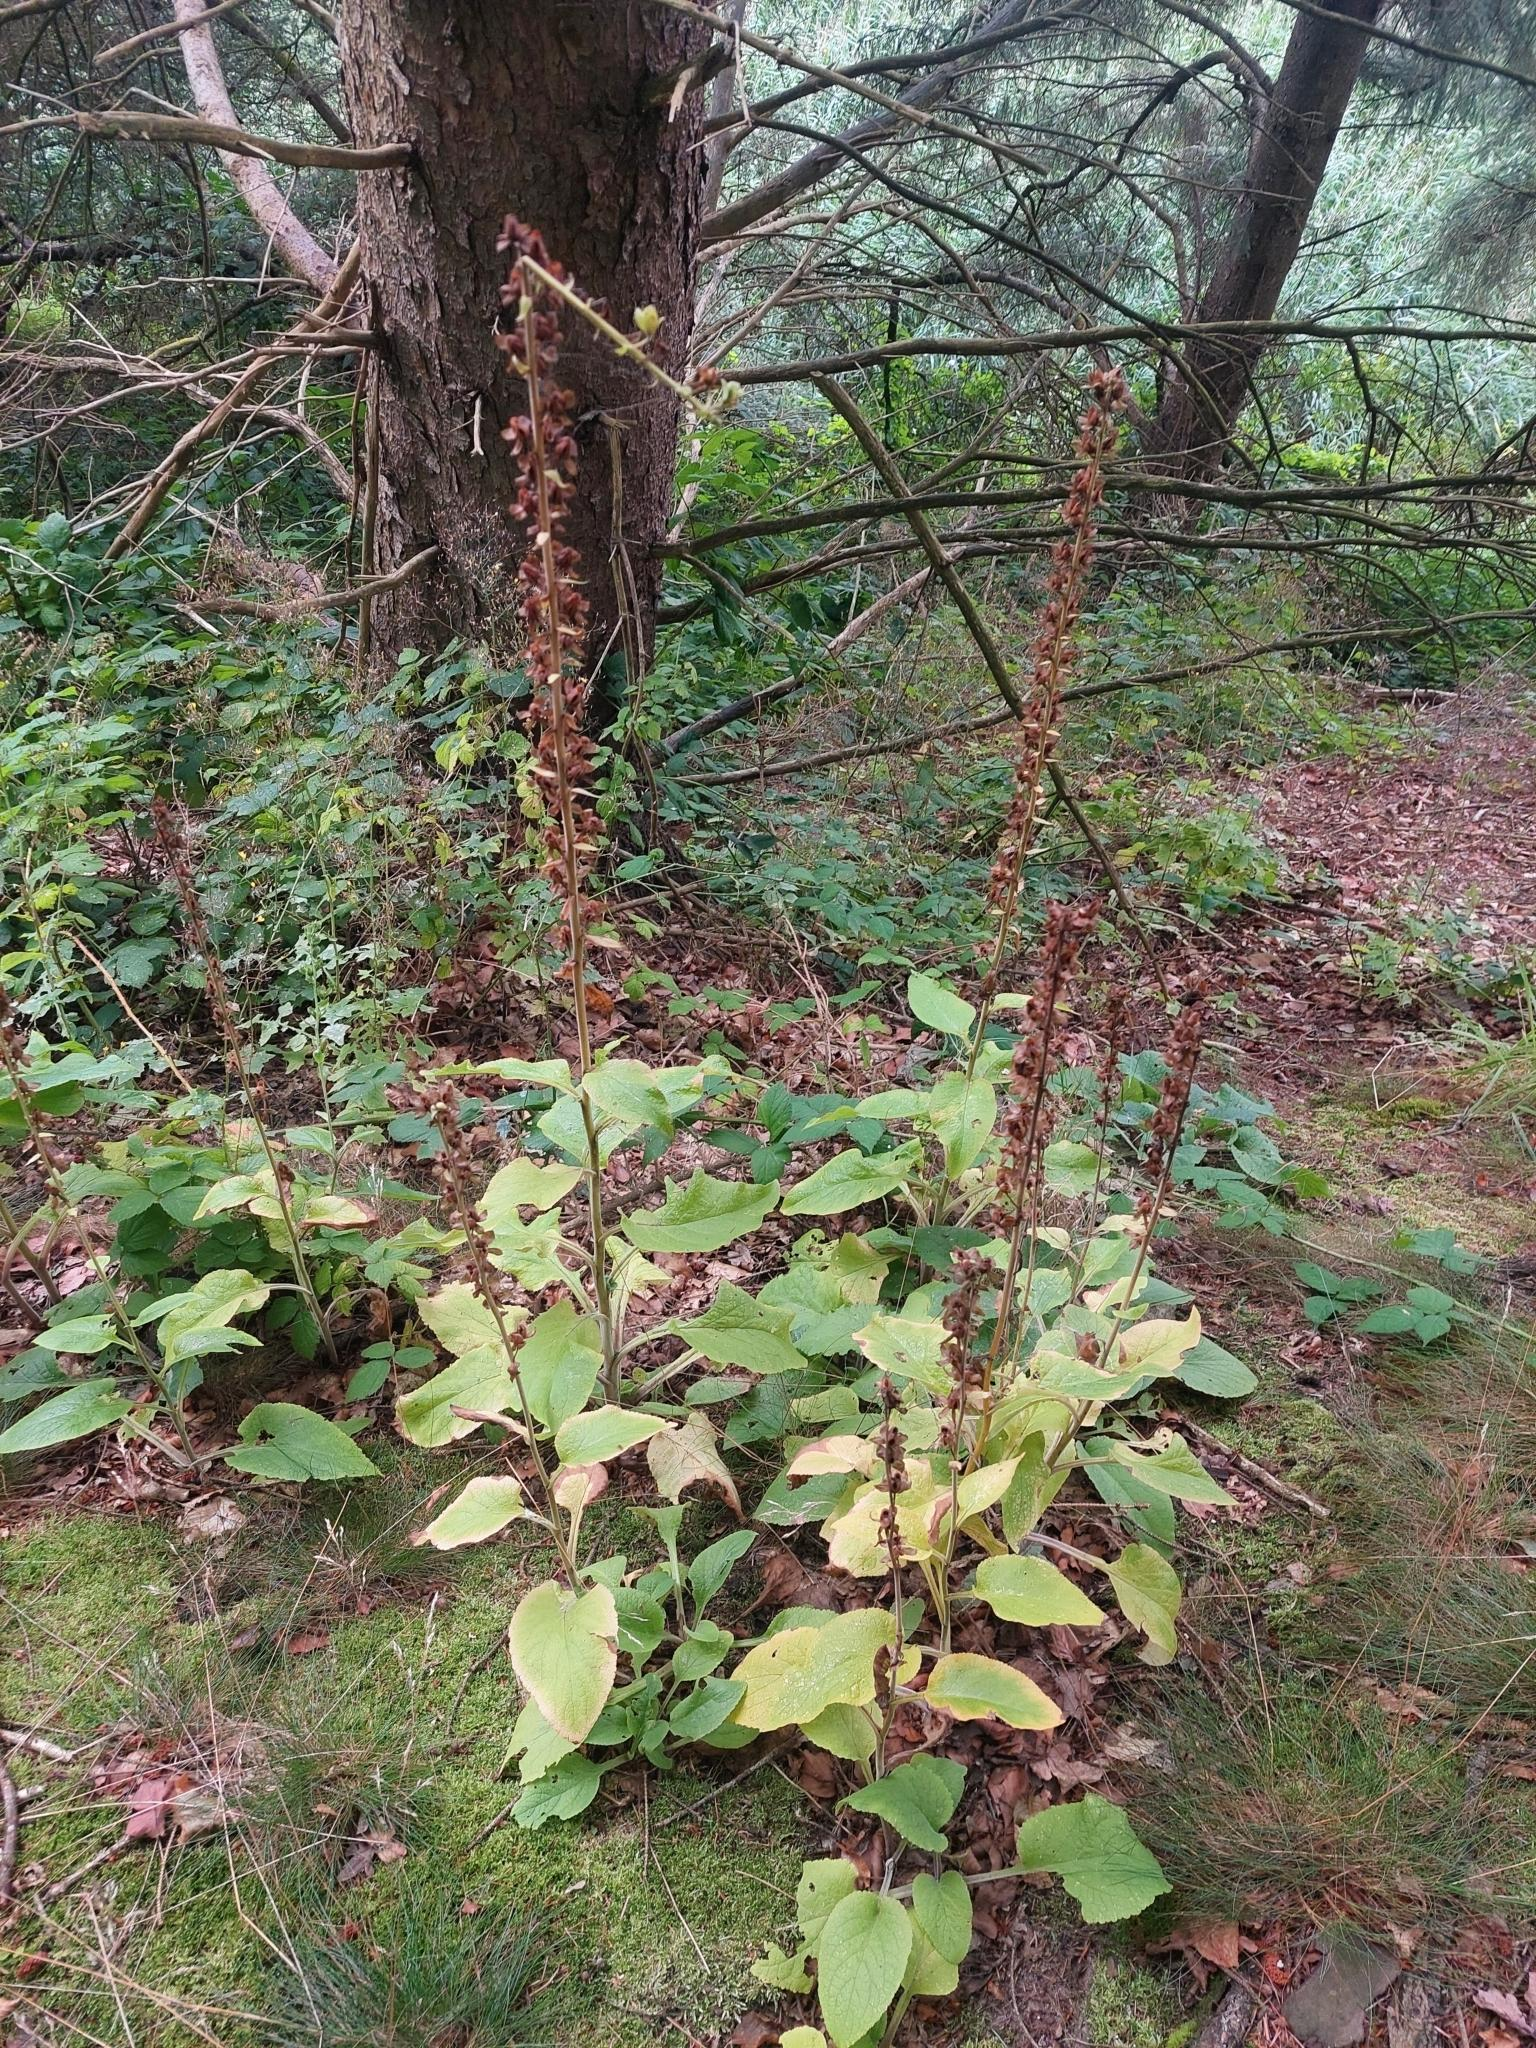Digitalis L: (802, 358, 1142, 1940), (450, 192, 700, 1535), (123, 798, 476, 1455)
